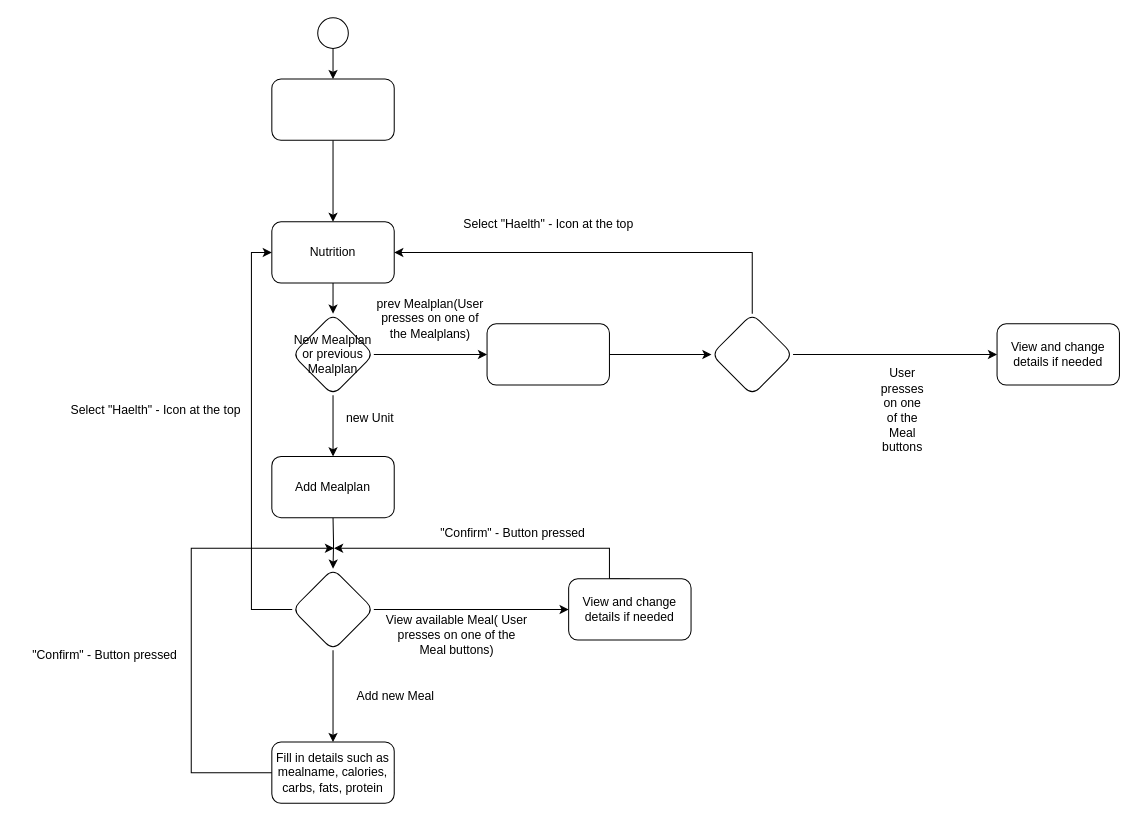
This 1137x821 diagram has some shape labels left out. Here are the shapes that lost their labels. From the top down, the centre of each, then its label:
the point at 332,109: User executes the application
the point at 547,354: Meal Tab of the Selected Mealplan
the point at 332,609: View Available Meal or add new Meal?
